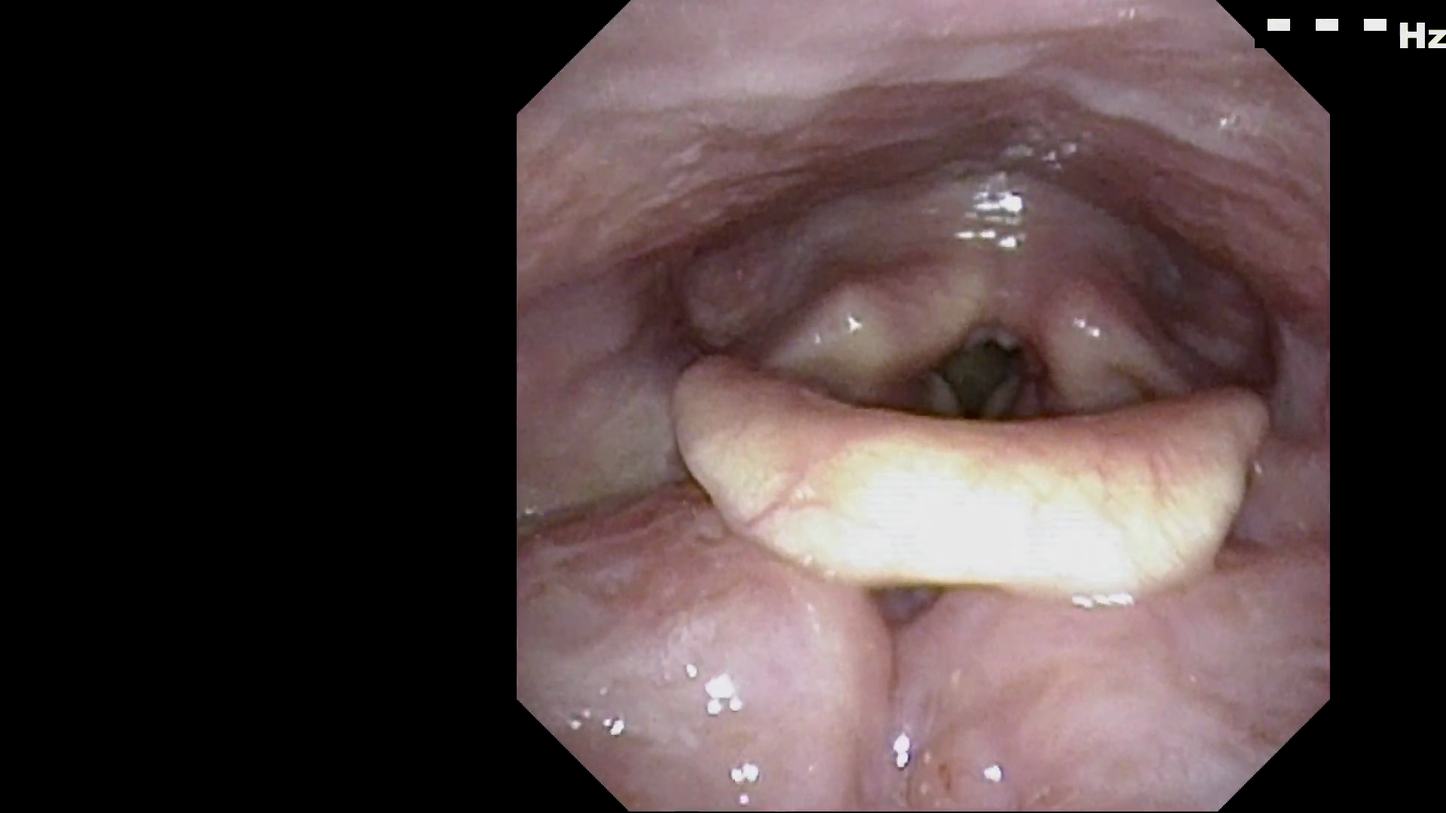epiglottis: (651, 334, 1268, 607)
trachea: (908, 305, 1055, 459)
